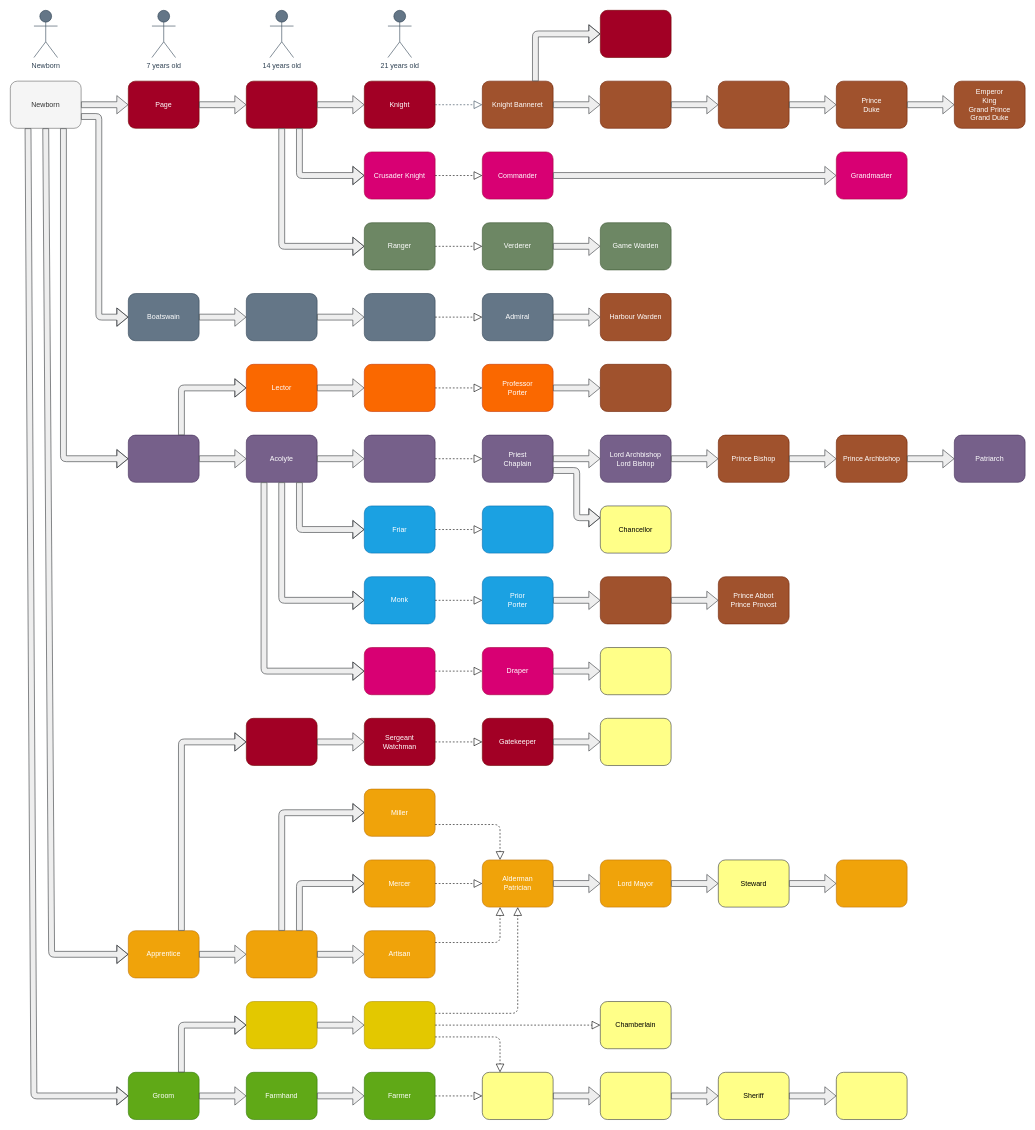
This 1035x1130 diagram has some shape labels left out. Each missing label, with the box of its shape:
Almoner Porter: (482, 505, 553, 553)
Bailiff: (600, 1072, 671, 1120)
Cadet: (246, 293, 317, 341)
Captain: (364, 293, 435, 341)
Castellan Baron Lord: (600, 81, 671, 128)
Chaplain Brother: (364, 647, 435, 695)
Constable: (600, 718, 671, 766)
Count: (718, 81, 789, 128)
Deacon: (364, 435, 435, 482)
Doge: (836, 859, 907, 907)
Hostler Valet: (246, 1001, 317, 1049)
Innkeeper Panter Butler: (364, 1001, 435, 1049)
Journeyman: (246, 930, 317, 978)
Justiciar: (836, 1072, 907, 1120)
Knave: (246, 718, 317, 766)
Lord Abbot: (600, 576, 671, 624)
Lord Warden: (600, 364, 671, 412)
Marshall: (600, 10, 671, 58)
Novice: (128, 435, 199, 482)
Reeve: (482, 1072, 553, 1120)
Scholar: (364, 364, 435, 412)
Squire: (246, 81, 317, 128)
Treasurer: (600, 647, 671, 695)
